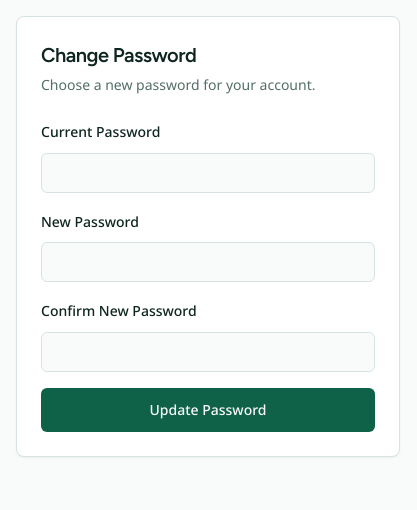
Test: ChangePassword › stops when the current password is wrong
The image size is (417, 510).
In the password field labelled "Current Password": (208, 173) x1=41 y1=153 x2=375 y2=193, type "wrong-password"
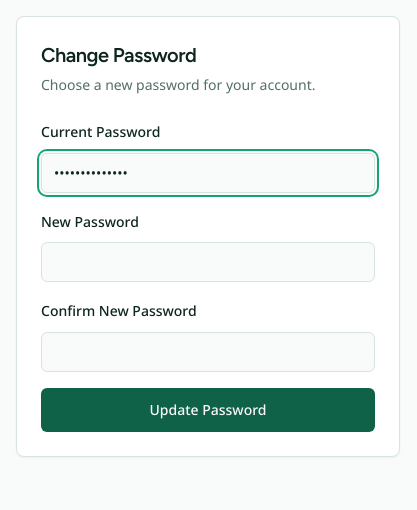
In the password field labelled "New Password": (208, 262) x1=41 y1=242 x2=375 y2=282, type "newpassword"
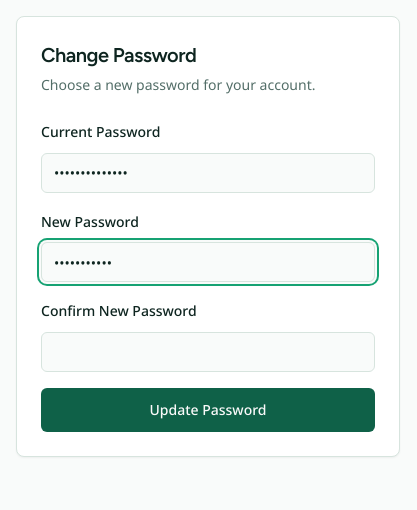
In the password field labelled "Confirm New Password": (208, 352) x1=41 y1=332 x2=375 y2=372, type "newpassword"
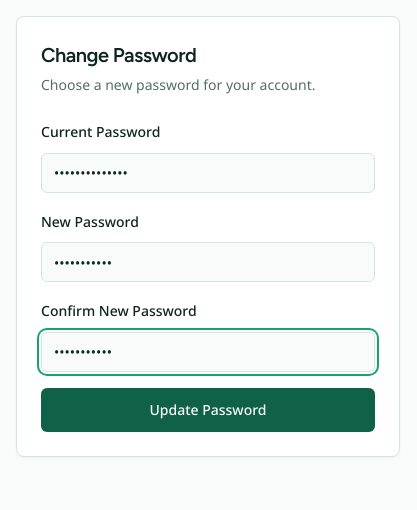
Click the button "Update Password": (208, 410) x1=41 y1=388 x2=375 y2=432
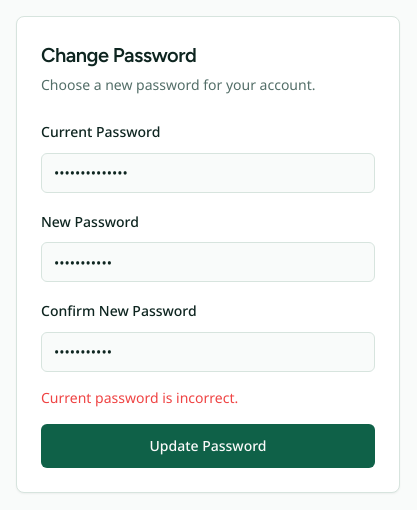
Expected: the text "Current password is incorrect." is shown, x1=41 y1=388 x2=238 y2=407
